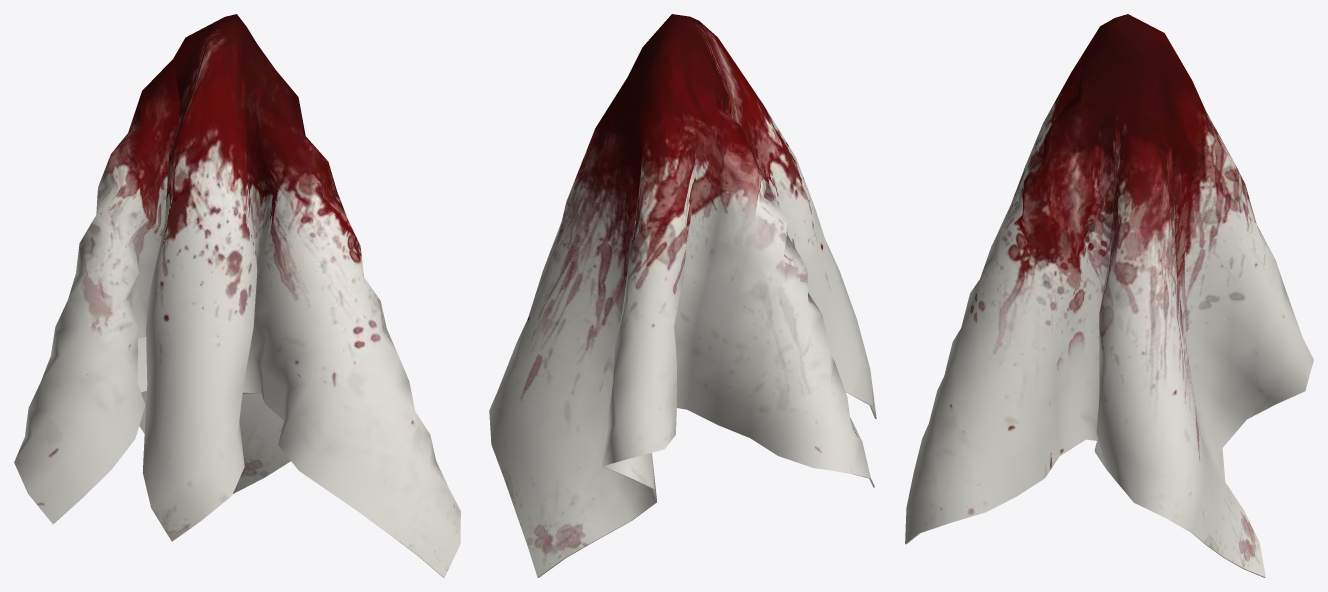
The model's file is s_trapo.glb.
3 views of the same model, side by side, from view 1: azimuth 30°, elevation 25°; view 2: azimuth 150°, elevation 25°; view 3: azimuth 270°, elevation 25° (orthographic). The views are drawn at different scales.
Visible parts, largest first — view 1: Clue_BloodRag:pPlane1_lambert1_0; view 2: Clue_BloodRag:pPlane1_lambert1_0; view 3: Clue_BloodRag:pPlane1_lambert1_0.
Part boxes in pixels (x1,y1,x2,y2): Clue_BloodRag:pPlane1_lambert1_0: (14, 14, 460, 577); Clue_BloodRag:pPlane1_lambert1_0: (489, 14, 876, 577); Clue_BloodRag:pPlane1_lambert1_0: (905, 14, 1313, 577).
Bounding box in the file's own units: 0.2872 × 0.4 × 0.2811.
Materials: 1 (1 with a texture image).
